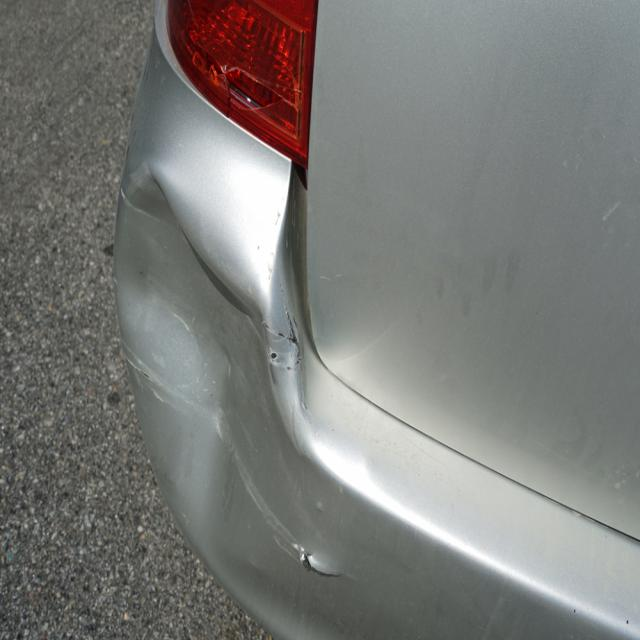dent: (115, 170, 269, 562)
lamp broken: (166, 0, 317, 169)
scratch: (243, 476, 304, 562), (267, 293, 301, 378)
